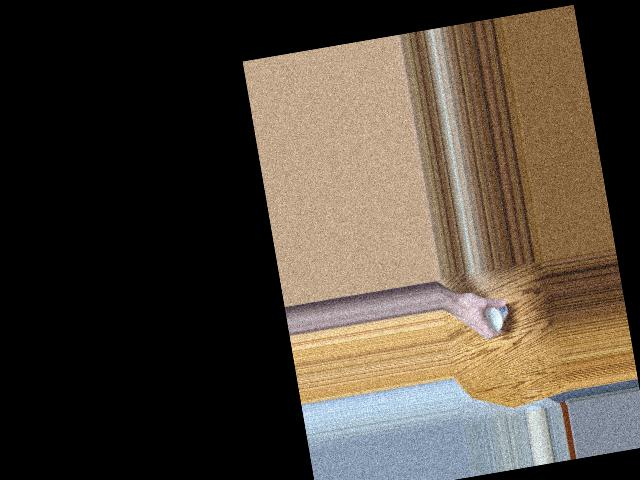cotage: (480, 296, 510, 332)
